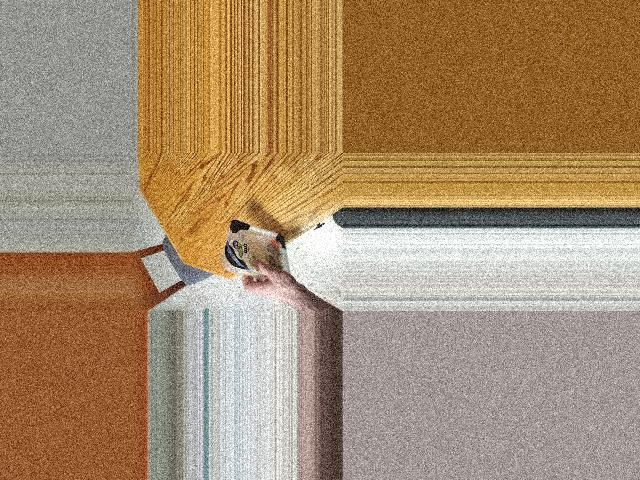cheese: (219, 226, 293, 276)
